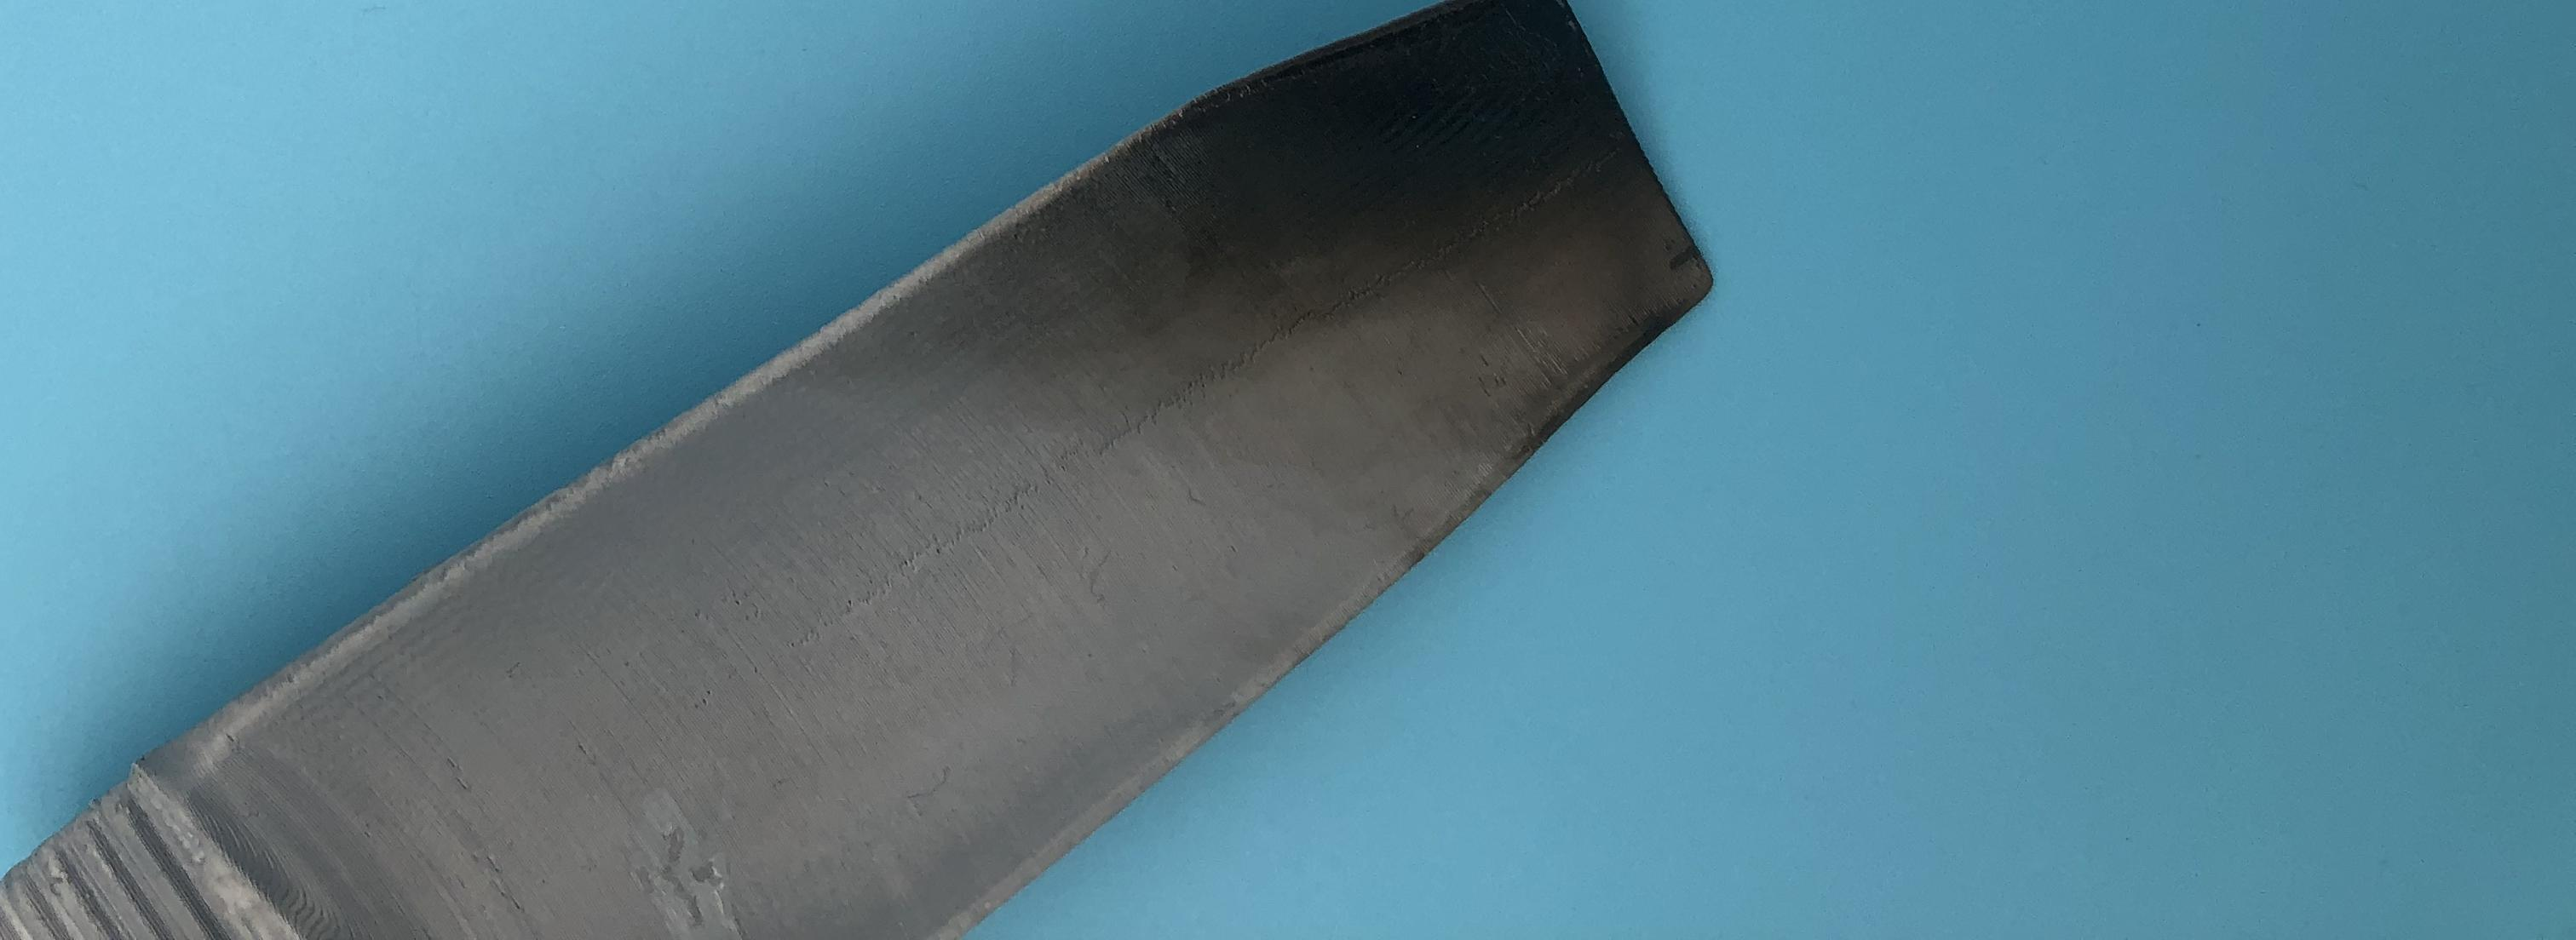ablation: (1171, 59, 1649, 324)
